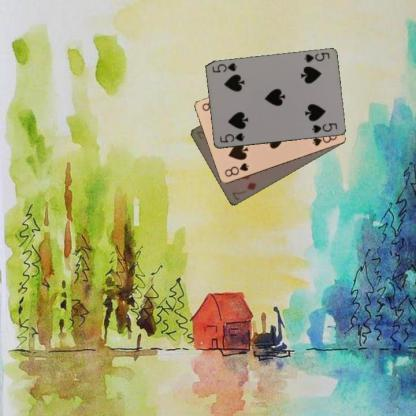5s: (217, 130, 246, 144), (301, 50, 330, 64)
7d: (229, 180, 258, 202)
8s: (222, 161, 249, 178)
